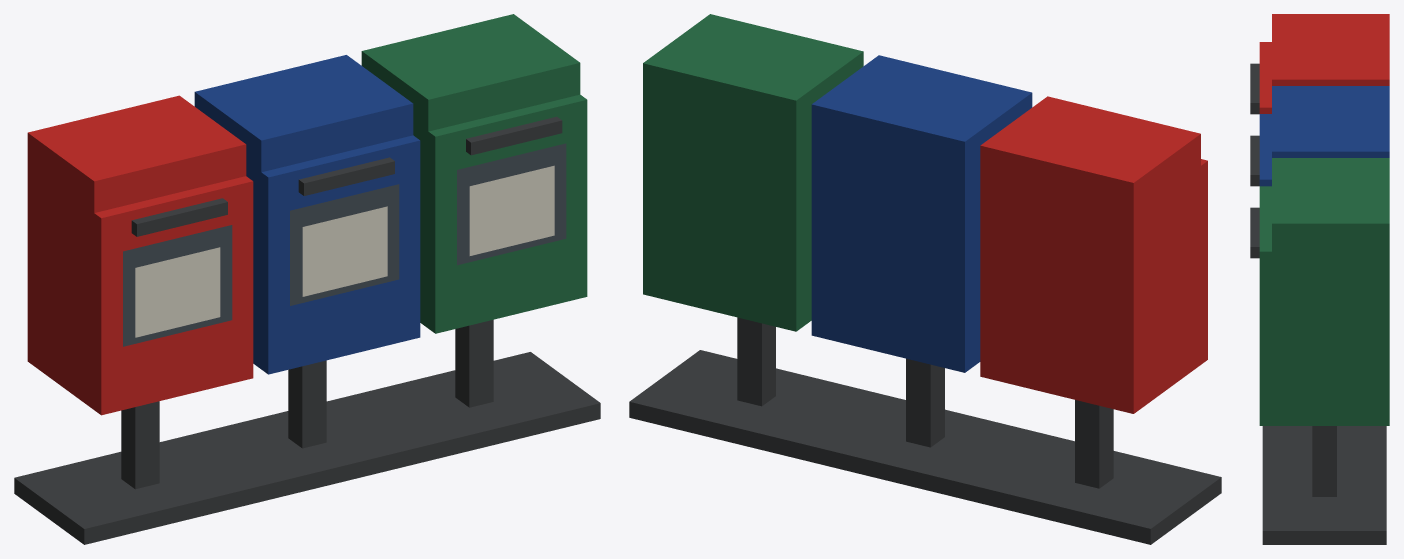
The model's file is seattle_newspaper_box.glb.
The picture shows the model from 3 angles, left to right: view 1: azimuth 30°, elevation 25°; view 2: azimuth 150°, elevation 25°; view 3: azimuth 270°, elevation 25°; orthographic projection. The views are drawn at different scales.
Parts seen in each view (by area): view 1: seattle_newspaper_box; view 2: seattle_newspaper_box; view 3: seattle_newspaper_box.
Boxes of the visible parts, <box> form: seattle_newspaper_box: <box>14,14,600,544</box>; seattle_newspaper_box: <box>629,14,1221,544</box>; seattle_newspaper_box: <box>1250,14,1389,544</box>.
Size of the model in its own units: 1.7 by 1.12 by 0.45.
Materials: 1 (1 with a texture image).
